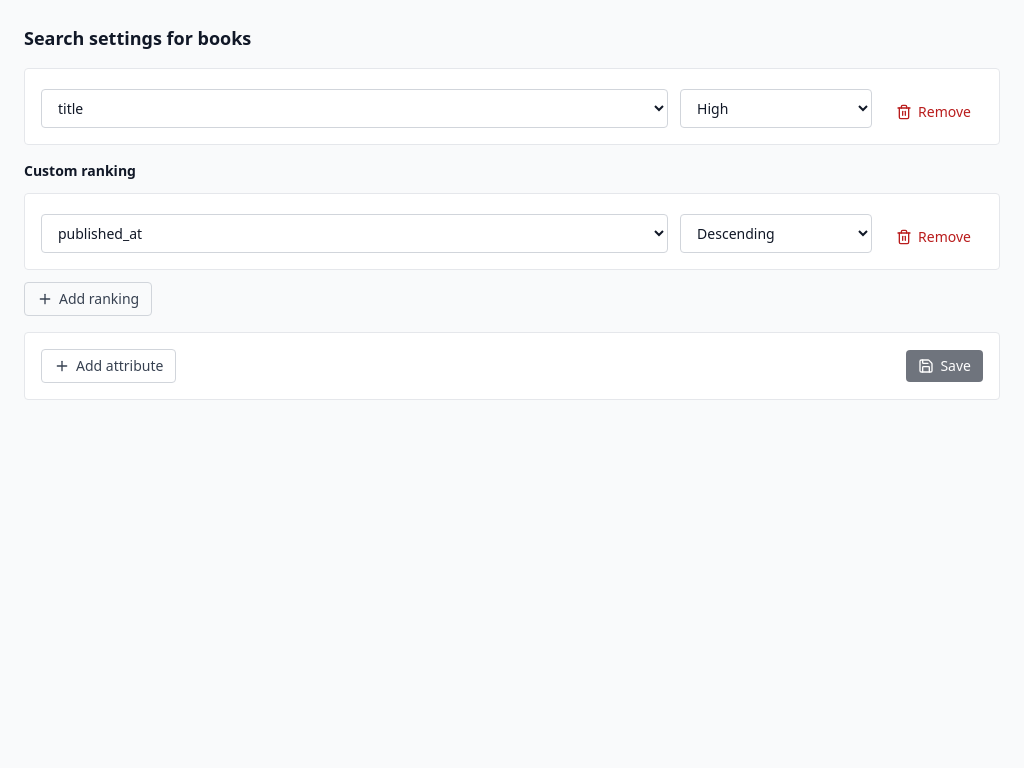
Test: SearchSettingsEditor › validates duplicate ranking columns before save
Expected: the heading "Search settings for books" is shown, [24,26,251,50]
Click the button "Add ranking".
click(88, 299)  # box [24,282,152,316]
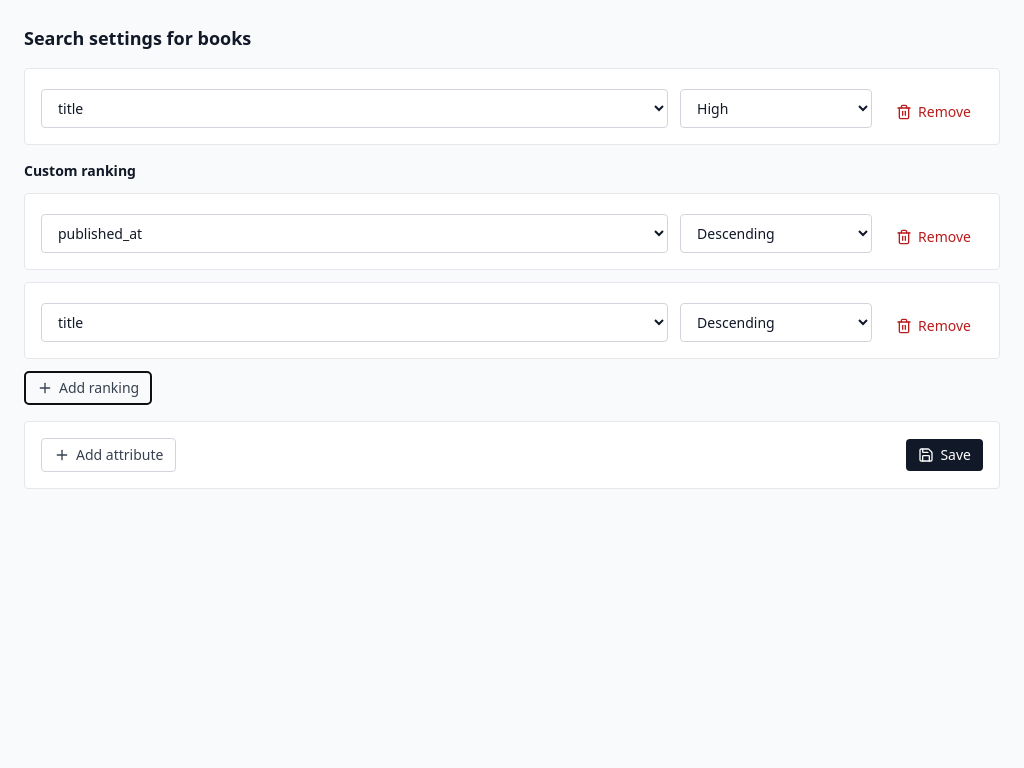
Select "published_at" in the dropdown named "Ranking column for row 2" at (355, 322), box [41,303,668,342]
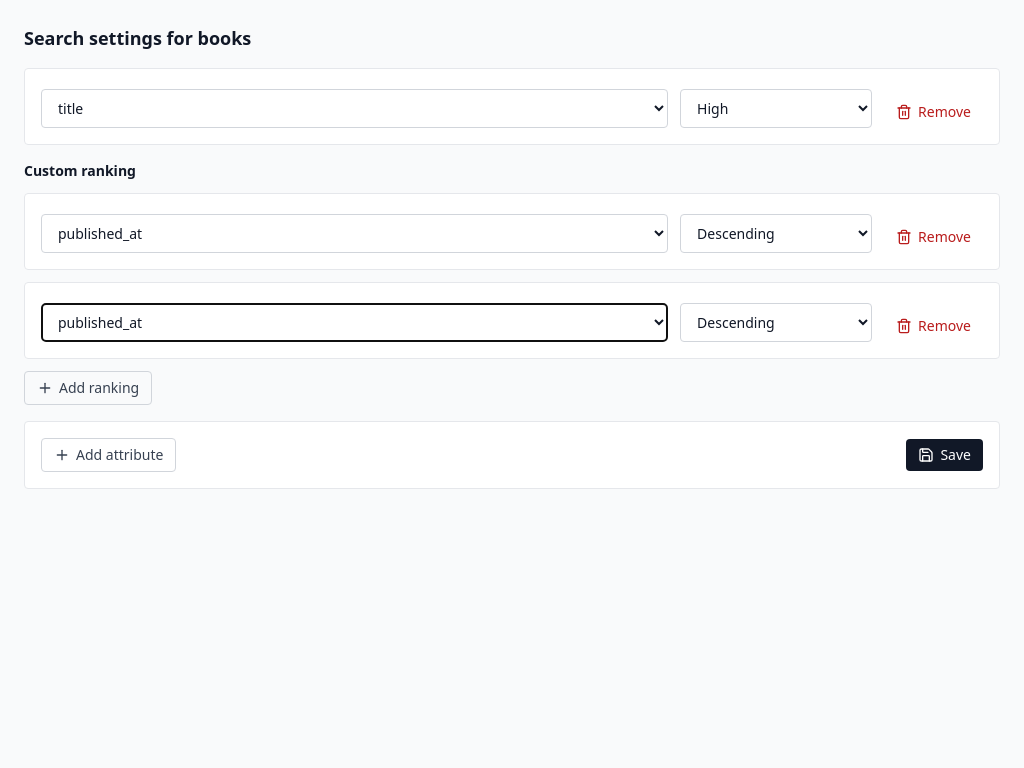
Click the button "Save".
click(945, 455)  # box [906,439,983,471]
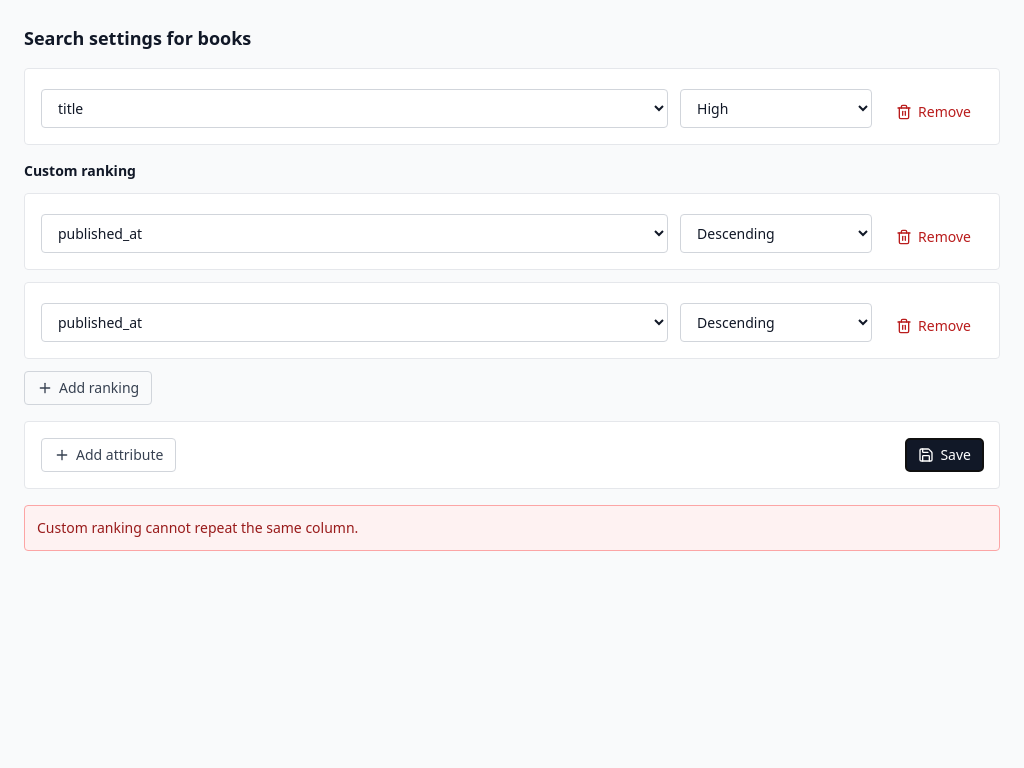
Expected: the text "Custom ranking cannot repeat the same column." is shown, [24,505,1000,551]
